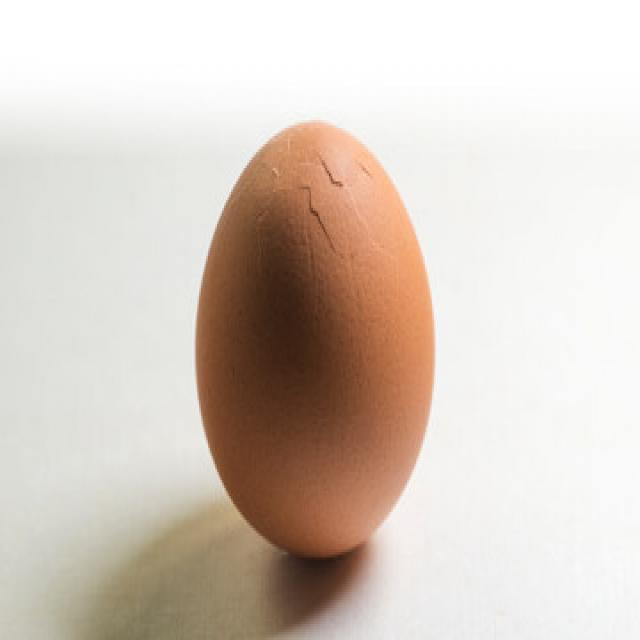biodegradable: (195, 113, 438, 558)
